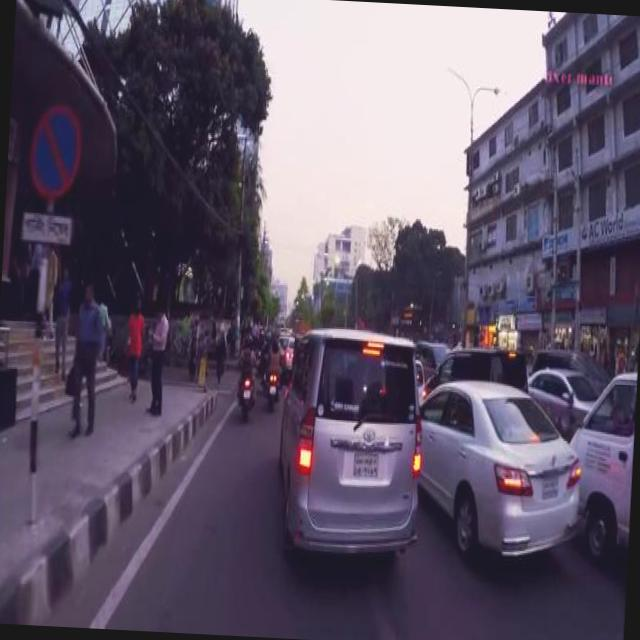car: (413, 376, 584, 558), (524, 362, 598, 422), (284, 332, 294, 368)
motorcycle: (237, 360, 257, 418), (262, 364, 280, 403)
truck: (273, 322, 427, 552), (422, 342, 530, 393)
